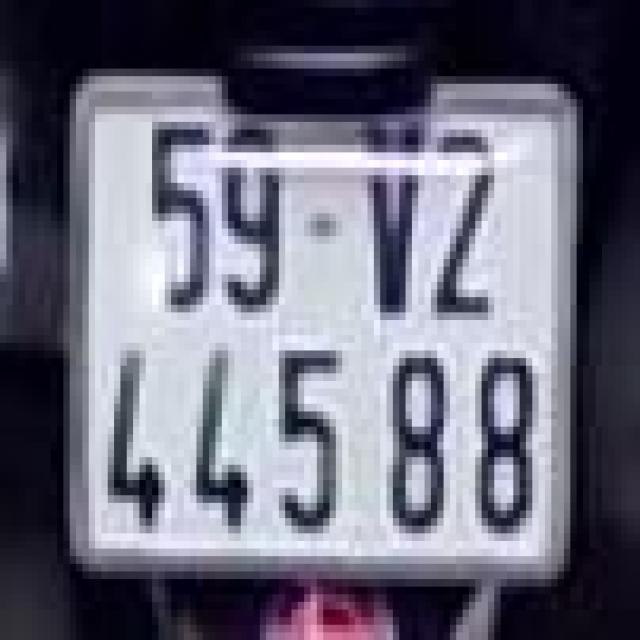2: (434, 118, 504, 324)
4: (95, 331, 171, 545), (187, 339, 257, 537)
5: (269, 339, 358, 537), (133, 115, 216, 312)
8: (371, 339, 453, 545), (469, 343, 545, 541)
9: (218, 118, 294, 316)
V: (352, 110, 428, 324)
